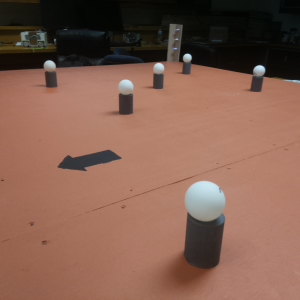obstacle: (182, 180, 228, 270), (118, 79, 133, 115), (250, 63, 266, 91), (44, 58, 58, 88), (153, 62, 166, 91), (183, 54, 192, 74)
